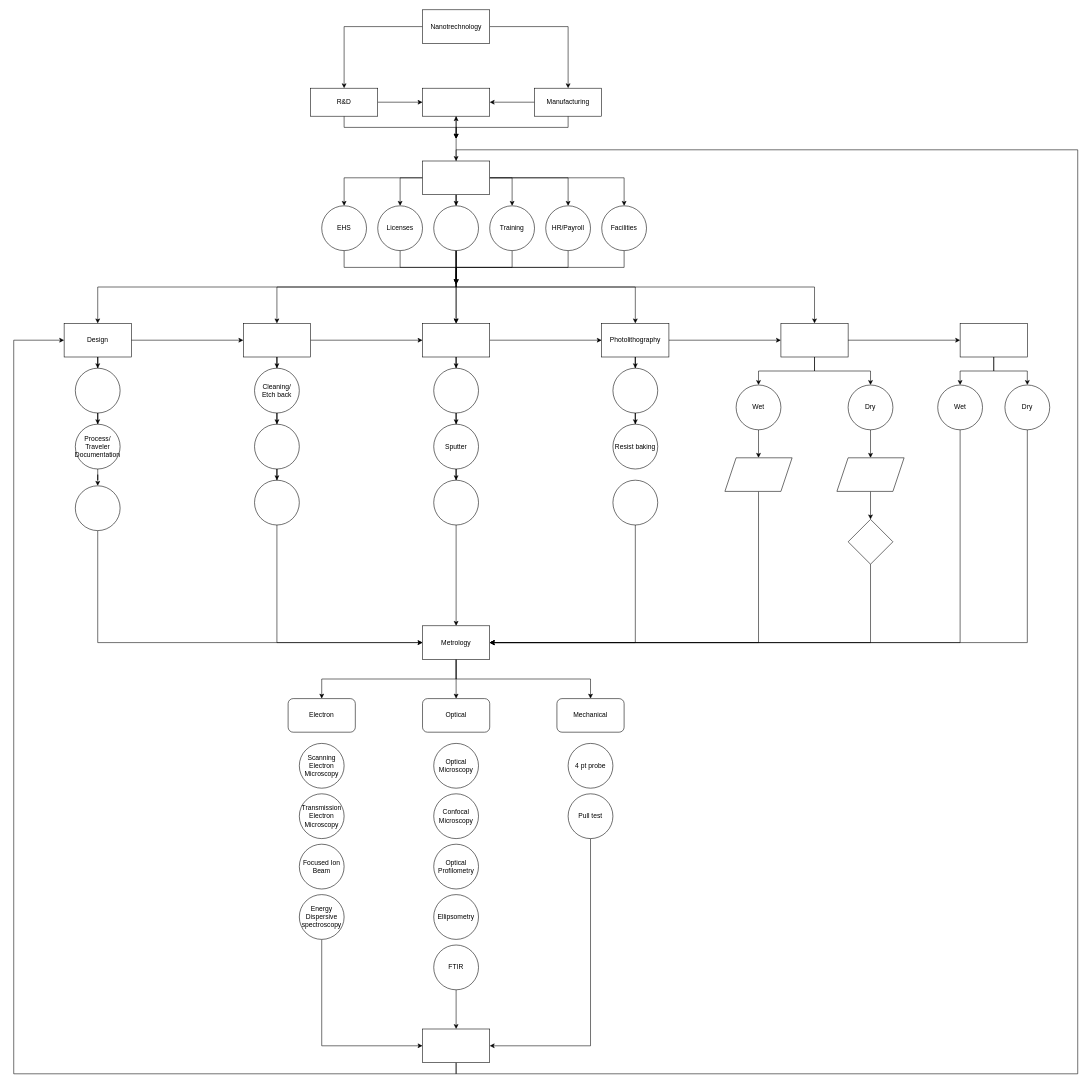
Image size: 1092x1088. Some labels were removed from this diagram. The shapes that lost their labels are listed below. From the top down, each one's box as (x1, y1, x2, y2) in pixels, then its label:
(422, 88, 490, 116): Scaling
(422, 160, 490, 195): Operations
(433, 205, 479, 251): SOP
(243, 323, 311, 357): Die Prep
(422, 323, 490, 357): Metalization
(780, 323, 848, 357): Etch
(960, 323, 1027, 357): Cleaning/ Washing
(75, 368, 120, 413): Wafer Map
(433, 368, 479, 413): Plating
(612, 368, 658, 413): Resist/ Spinning
(254, 424, 299, 469): Polishing
(724, 457, 792, 491): Acid Etch
(836, 457, 904, 491): Plasma Etch
(254, 480, 299, 525): Placement
(612, 480, 658, 525): Development
(848, 519, 893, 564): Reactive Ion
(422, 1028, 490, 1063): Statistical Process Control
